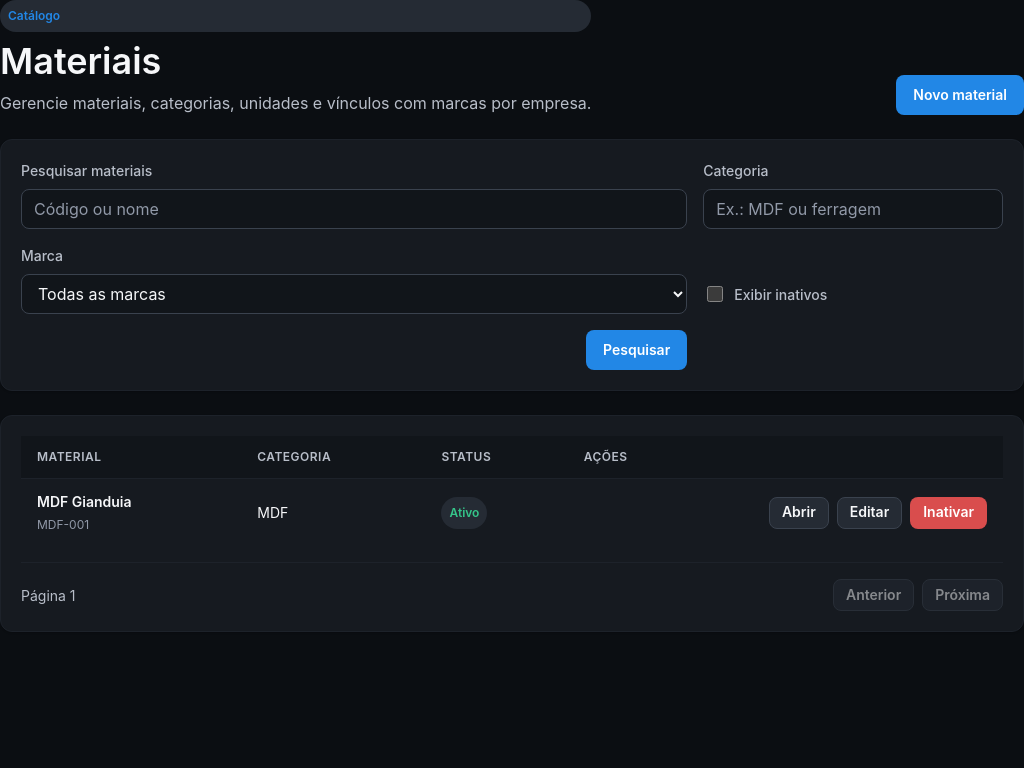
Test case: MaterialsRoute › inativa um material após confirmação
Expected: the button "MDF Gianduia" is shown, [37,491,132,512]
Click the button "Inativar". click: (949, 513)
box: [910,497,987,529]
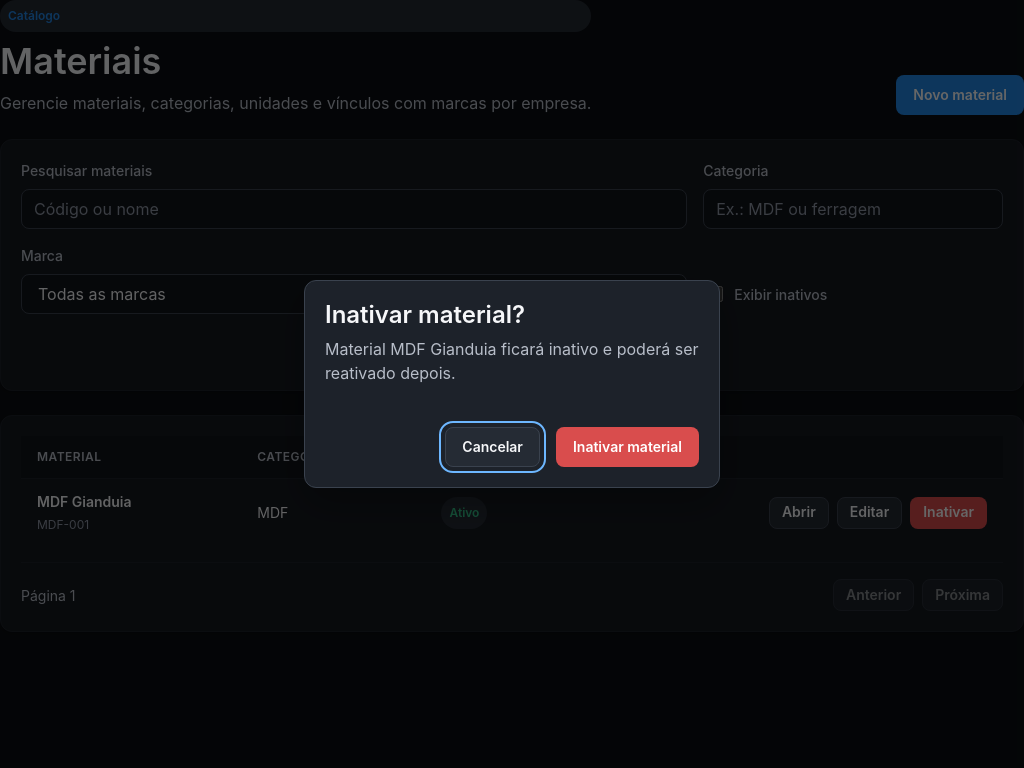
Now the text "Inativar material?" is shown, box [325,300,525,329]
Click the button "Inativar material". click: (627, 447)
box: [556,427,699,467]
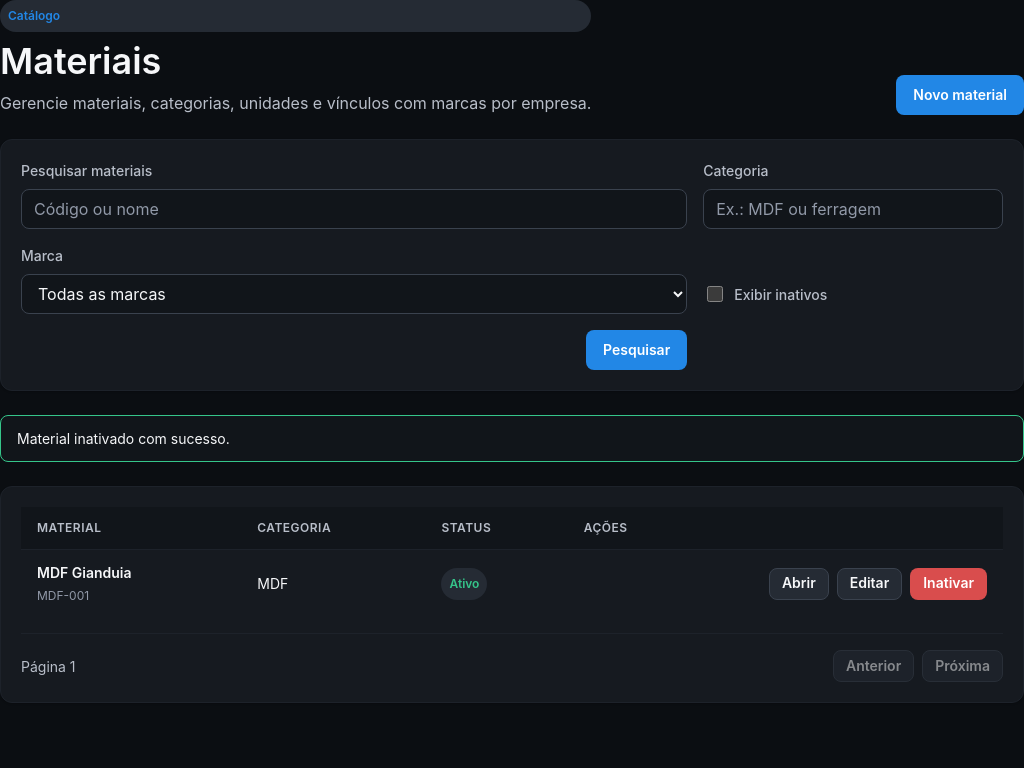
Now the text "Material inativado com sucesso." is shown, box [0,415,1023,462]
